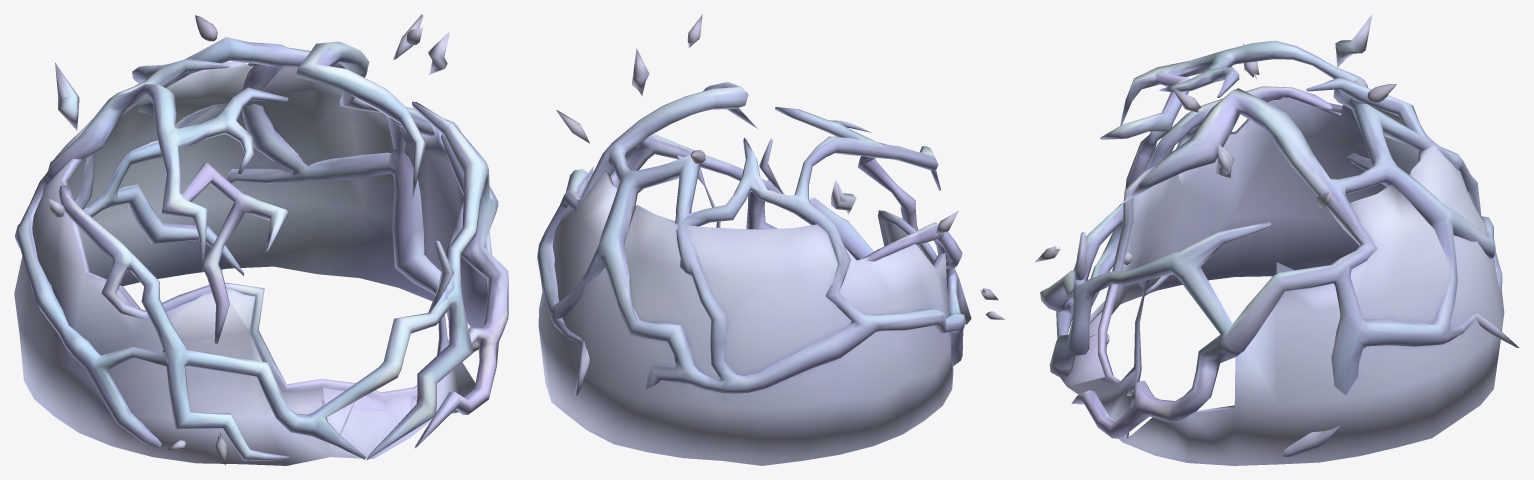
Rendered from anillo_energia.glb.
3 renders of one model, left to right at view 1: azimuth 30°, elevation 25°; view 2: azimuth 150°, elevation 25°; view 3: azimuth 270°, elevation 25°, orthographic. The views are drawn at different scales.
Visible parts, largest first — view 1: tripo_node_3fdee0d8-a850-46c5-a51f-b6a01832385a; view 2: tripo_node_3fdee0d8-a850-46c5-a51f-b6a01832385a; view 3: tripo_node_3fdee0d8-a850-46c5-a51f-b6a01832385a.
Part boxes in pixels (x1=…): tripo_node_3fdee0d8-a850-46c5-a51f-b6a01832385a: x1=14, y1=14, x2=508, y2=465; tripo_node_3fdee0d8-a850-46c5-a51f-b6a01832385a: x1=537, y1=14, x2=1004, y2=465; tripo_node_3fdee0d8-a850-46c5-a51f-b6a01832385a: x1=1034, y1=14, x2=1519, y2=465.
Bounding box in the file's own units: 0.9863 × 0.7832 × 0.998.
Materials: 1 (1 with a texture image).
